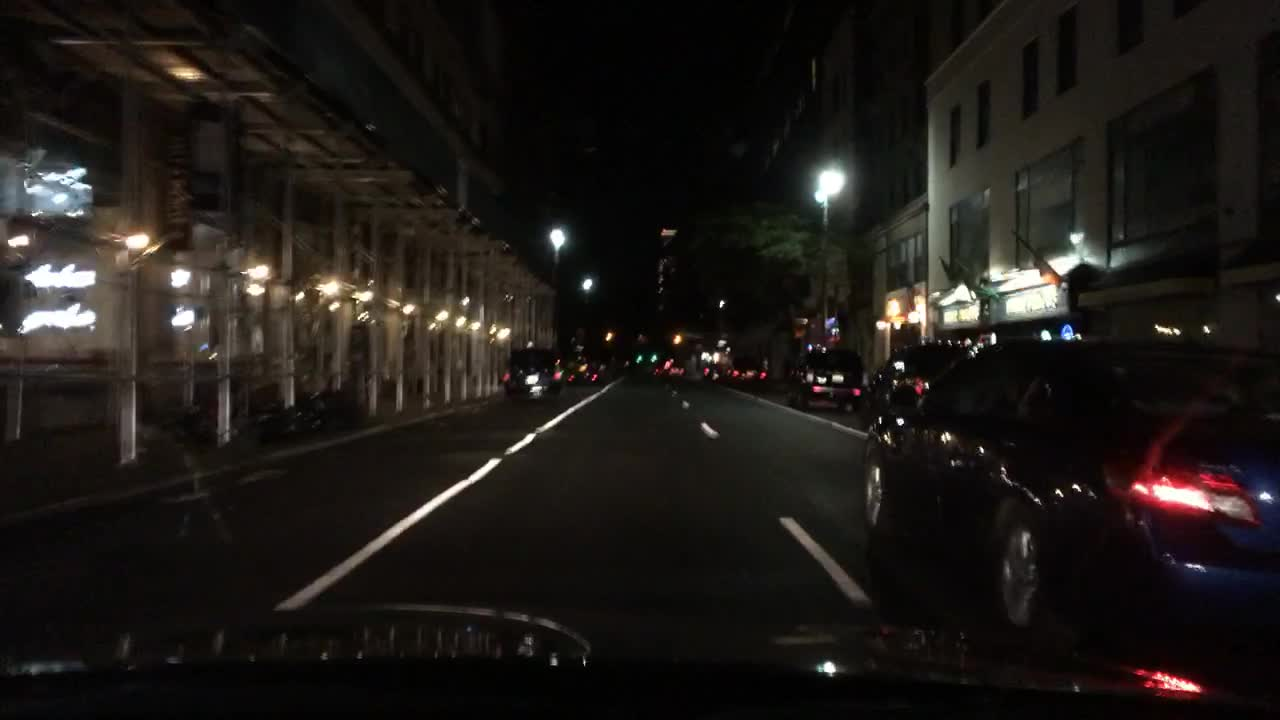car: (862, 338, 1279, 690), (855, 338, 978, 436), (782, 345, 864, 417), (499, 347, 567, 405), (724, 354, 768, 387), (565, 359, 600, 387), (700, 361, 726, 384), (668, 363, 688, 377), (649, 366, 663, 377)
